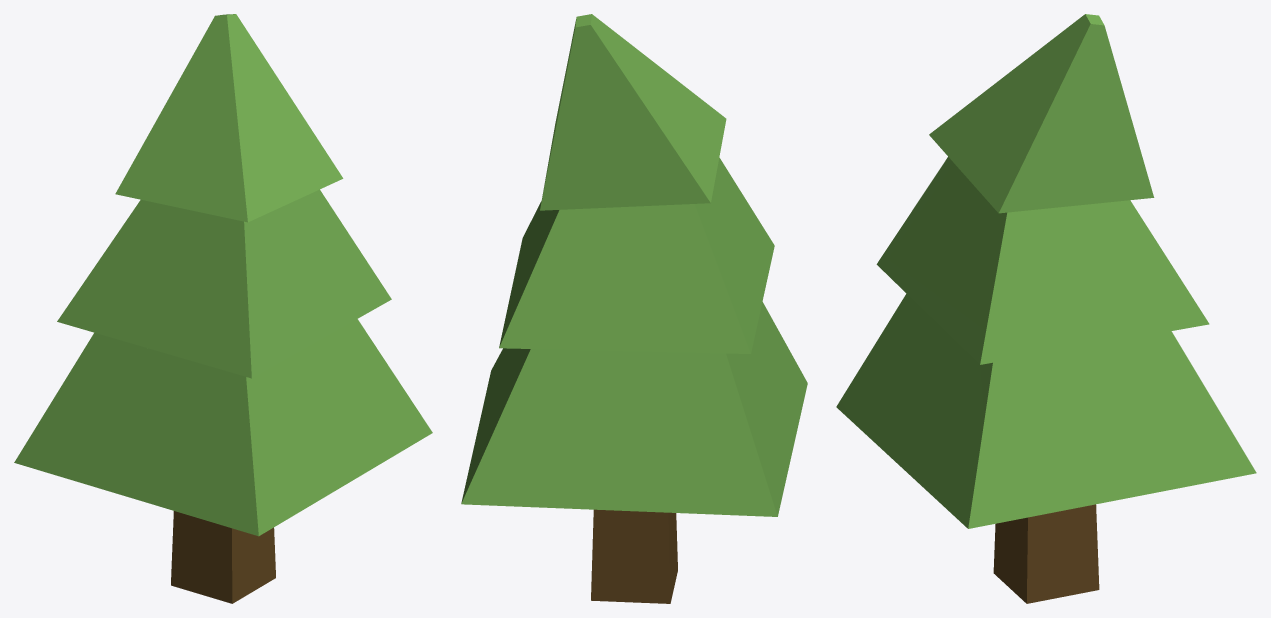
The model's file is low_poly_tree.fbx.
3 renders of one model, left to right at view 1: azimuth 30°, elevation 25°; view 2: azimuth 150°, elevation 25°; view 3: azimuth 270°, elevation 25°, orthographic. The views are drawn at different scales.
Parts seen in each view (by area): view 1: pine_tree; view 2: pine_tree; view 3: pine_tree.
Part boxes in pixels (box(x1,y1,x2,y2)): pine_tree: box(14, 14, 432, 603); pine_tree: box(461, 14, 807, 603); pine_tree: box(836, 14, 1256, 603).
Size of the model in its own units: 123 by 186 by 123.
